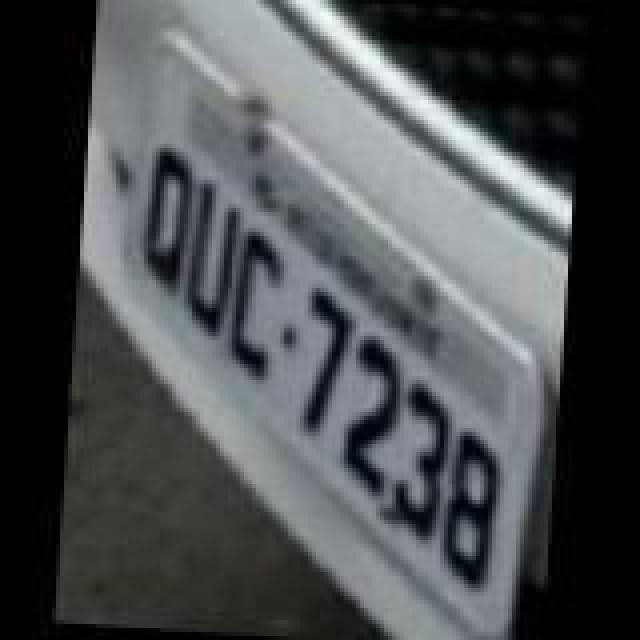2: (342, 338, 410, 502)
3: (388, 384, 460, 544)
7: (298, 286, 358, 434)
8: (436, 430, 508, 594)
C: (220, 226, 292, 382)
Q: (132, 146, 204, 302)
U: (182, 178, 250, 334)
